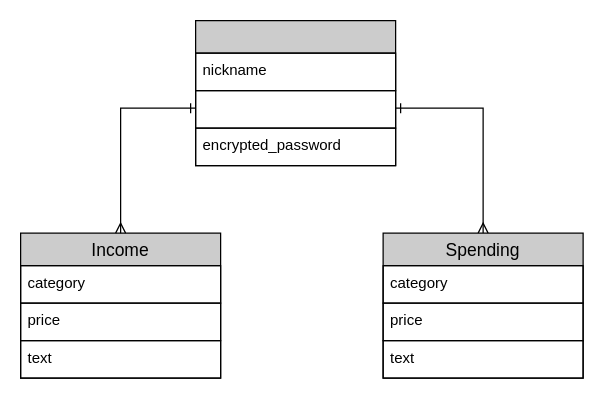
Some shapes in this 604 by 399 pixel diagram are drawn without their labels. The shapes that lost their labels are listed below. From the top down, each one's box as (x1, y1, x2, y2) in pixels, then its label:
(194, 19, 396, 166): User
(194, 89, 396, 128): email
